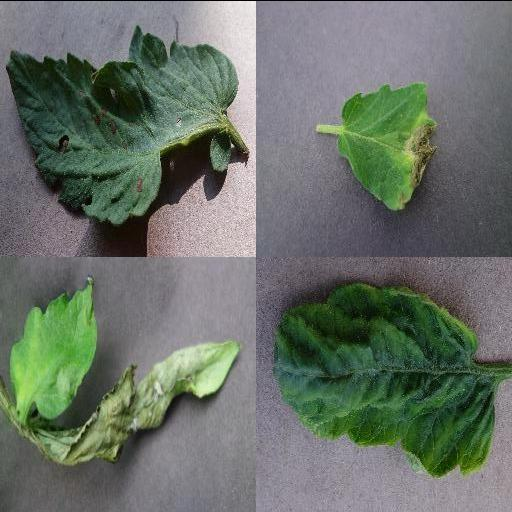Early Blight: (4, 30, 240, 234)
Late Blight: (26, 338, 240, 466), (9, 271, 99, 419), (337, 80, 441, 208)
Yellow Leaf Curl Virus: (272, 281, 496, 477)
